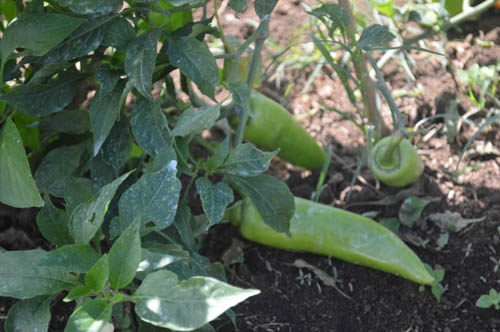ChiliPepper: (238, 196, 434, 287), (229, 95, 329, 169), (369, 136, 426, 190)
